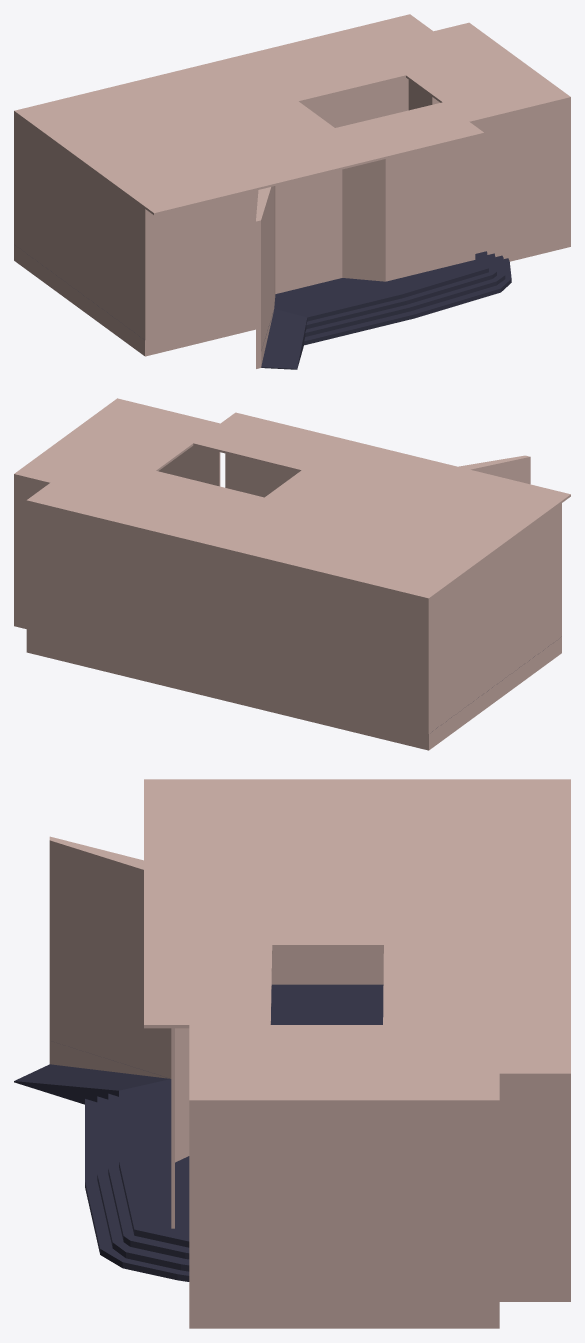
File: basic.glb
3 renders of one model, top to bottom at view 1: azimuth 30°, elevation 25°; view 2: azimuth 150°, elevation 25°; view 3: azimuth 270°, elevation 25°, orthographic. The views are drawn at different scales.
Visible parts, largest first — view 1: Cube.006, top, bottom; view 2: Cube.006, top, bottom; view 3: top, Cube.006, bottom.
Part boxes in pixels (bbox=[...]): Cube.006: bbox=[14, 77, 570, 352]; top: bbox=[14, 14, 570, 215]; bottom: bbox=[14, 230, 570, 369]; Cube.006: bbox=[14, 445, 561, 733]; top: bbox=[14, 398, 570, 600]; bottom: bbox=[14, 609, 561, 750]; top: bbox=[144, 779, 570, 1103]; Cube.006: bbox=[49, 836, 570, 1303]; bottom: bbox=[14, 984, 570, 1328].
Bounding box in the file's own units: 26.96 × 8.99 × 19.76.
